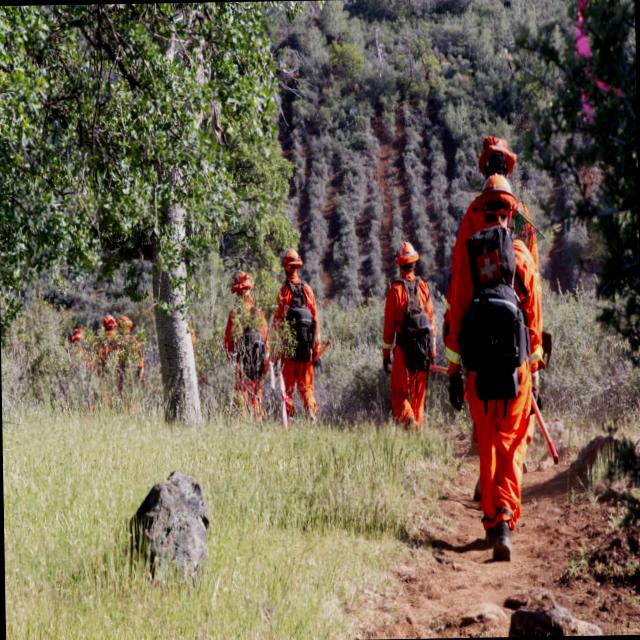helmet: (470, 176, 521, 212), (471, 133, 526, 166), (391, 235, 416, 270), (280, 242, 300, 272), (233, 266, 250, 290), (117, 312, 132, 334), (69, 326, 84, 341), (101, 311, 112, 331)
